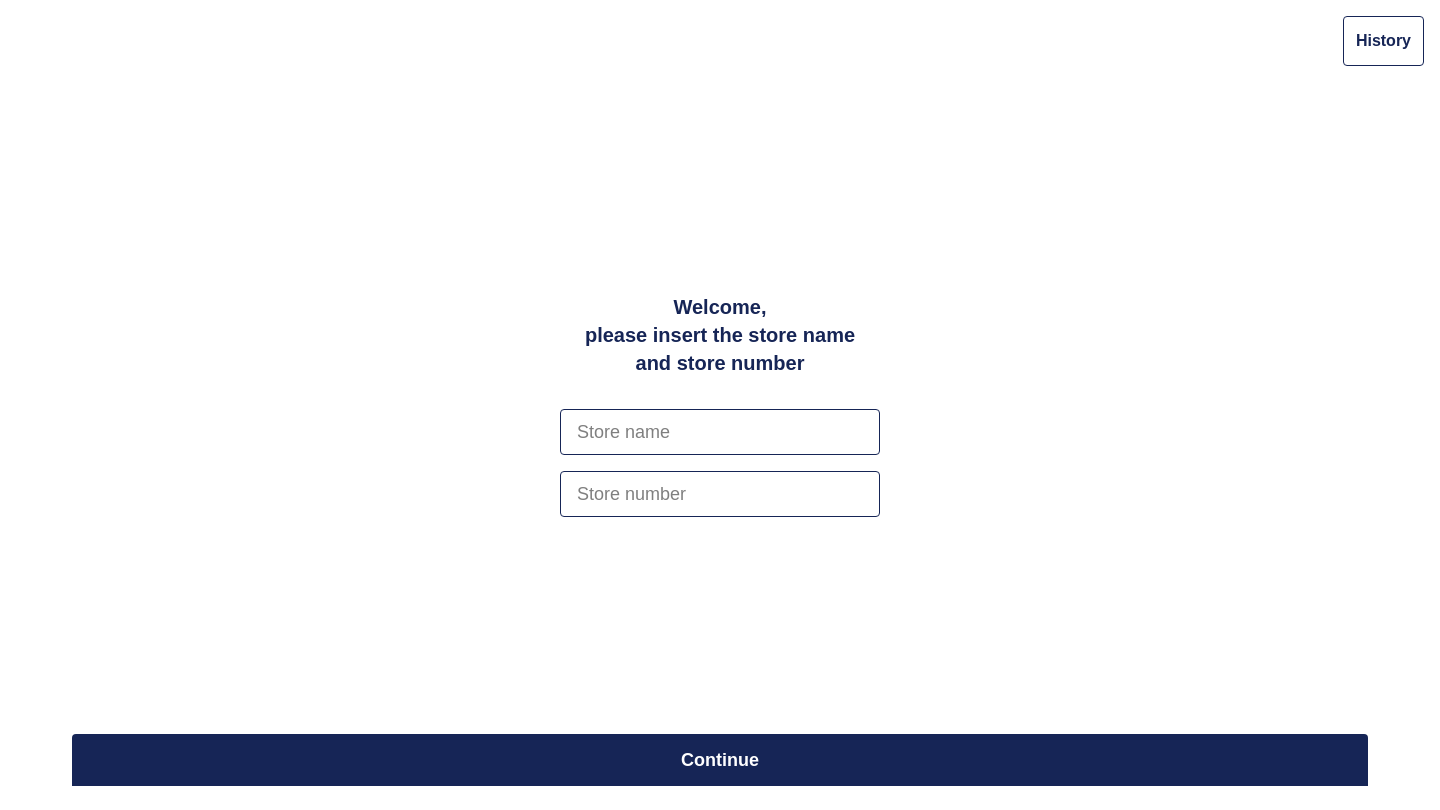
lead capture flow › asks for the store first, then shows the scanner
Type "Shop" into the field with placeholder "Store name". click: [720, 432]
box: x1=560 y1=409 x2=880 y2=455
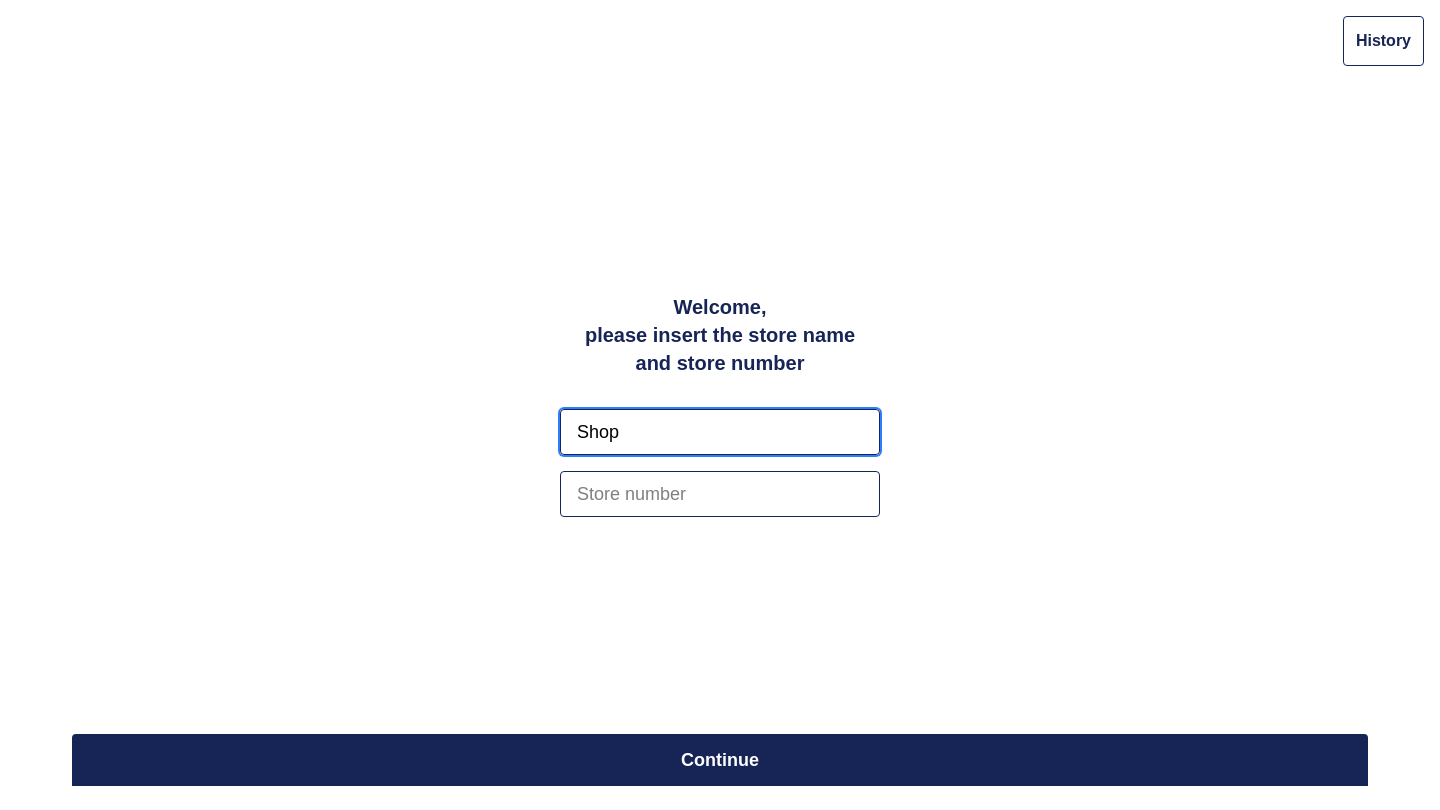
Type "7" into the field with placeholder "Store number". click: [720, 494]
box: x1=560 y1=471 x2=880 y2=517
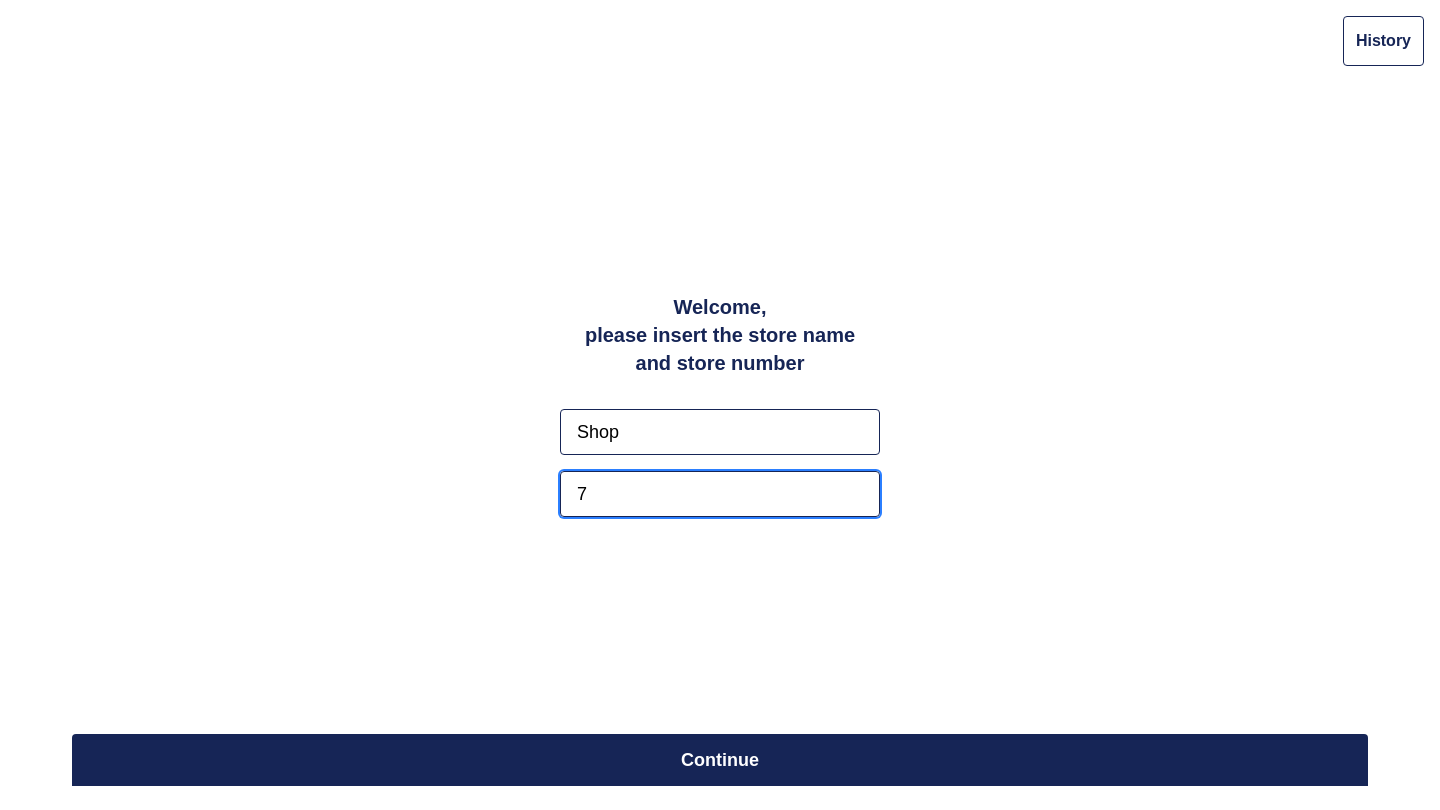
Click the button "Continue". click: [720, 760]
box: x1=72 y1=734 x2=1368 y2=786
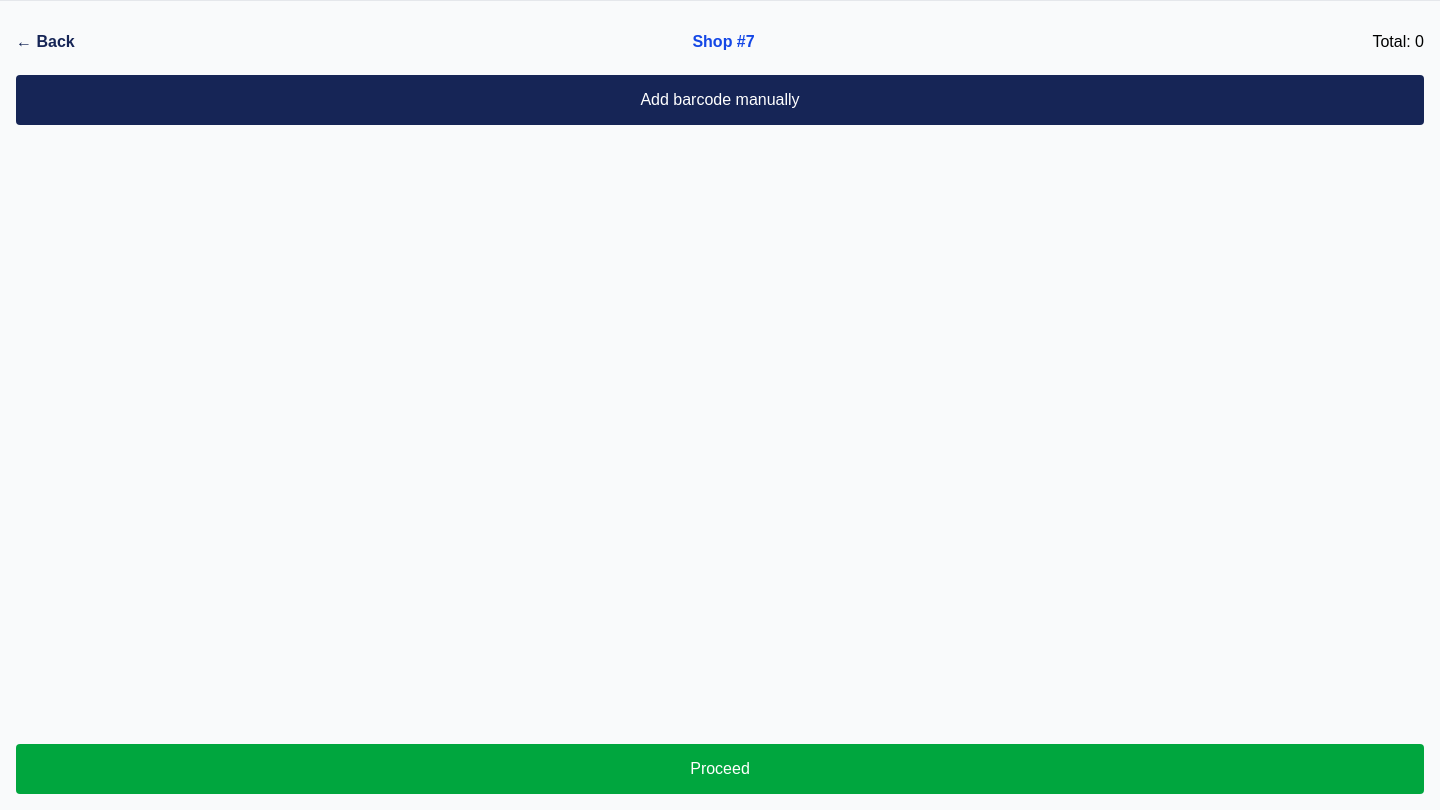
Expected: the text "Shop #7" is shown, x1=692 y1=30 x2=755 y2=54
